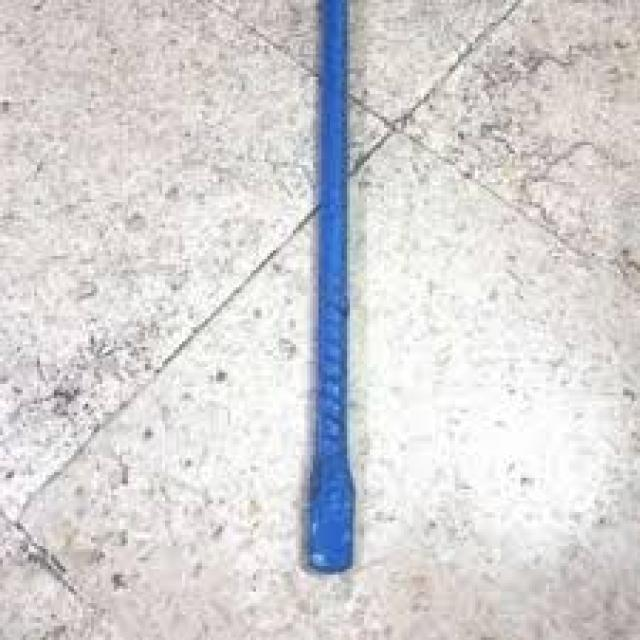Linggis: (292, 2, 372, 590)
